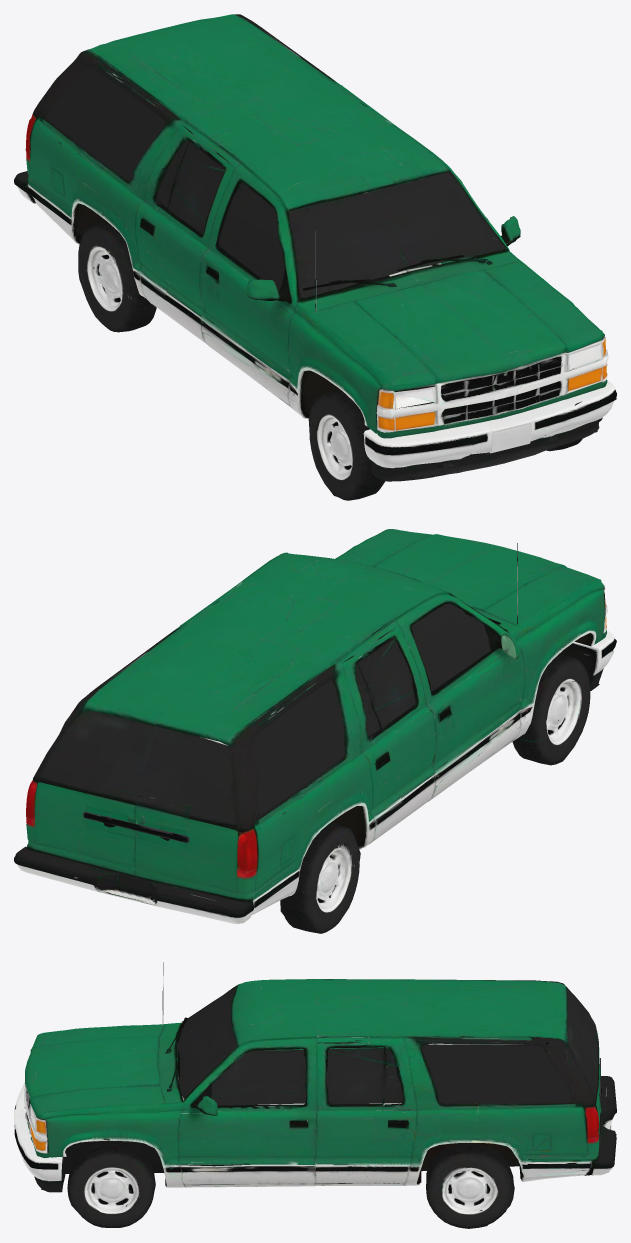
File: suv-v3.glb
3 renders of one model, top to bottom at view 1: azimuth 30°, elevation 25°; view 2: azimuth 150°, elevation 25°; view 3: azimuth 270°, elevation 25°, orthographic. The views are drawn at different scales.
Parts seen in each view (by area): view 1: body, glass_fill, wheel_fl_mesh, wheel_rl_mesh; view 2: body, glass_fill, wheel_rl_mesh, wheel_fl_mesh; view 3: body, glass_fill, wheel_rr_mesh, wheel_fr_mesh.
Boxes of the visible parts, x1=… form: body: x1=14, y1=14, x2=616, y2=481; glass_fill: x1=47, y1=67, x2=165, y2=180; wheel_fl_mesh: x1=308, y1=390, x2=385, y2=500; wheel_rl_mesh: x1=78, y1=222, x2=156, y2=332; body: x1=14, y1=529, x2=616, y2=924; glass_fill: x1=255, y1=680, x2=344, y2=813; wheel_rl_mesh: x1=280, y1=822, x2=360, y2=933; wheel_fl_mesh: x1=512, y1=654, x2=590, y2=765; body: x1=14, y1=962, x2=616, y2=1192; glass_fill: x1=422, y1=1045, x2=572, y2=1103; wheel_rr_mesh: x1=426, y1=1144, x2=514, y2=1228; wheel_fr_mesh: x1=67, y1=1144, x2=155, y2=1227.
Bounding box in the file's own units: 0.3833 × 0.3252 × 0.9526.
1 material, 1 textured.
